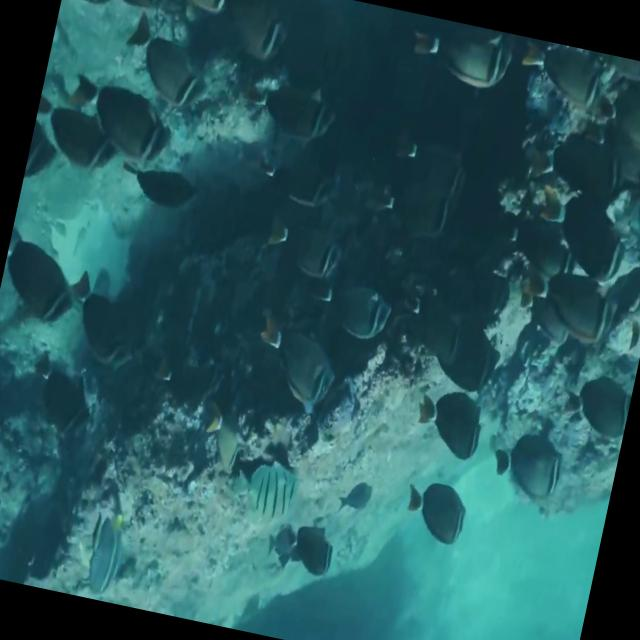fish: (60, 63, 187, 181), (238, 311, 366, 428), (395, 12, 520, 114), (110, 5, 214, 124), (506, 36, 614, 138), (544, 181, 635, 293), (18, 339, 108, 452), (0, 230, 82, 349), (246, 74, 340, 168), (480, 421, 573, 516), (422, 304, 515, 398), (62, 492, 140, 604), (61, 274, 138, 384), (384, 134, 480, 218), (539, 268, 623, 354), (27, 98, 119, 176), (408, 380, 492, 462), (224, 444, 304, 528), (216, 0, 297, 80), (486, 208, 572, 282), (322, 270, 397, 354), (562, 368, 634, 451), (381, 172, 463, 244), (394, 476, 470, 552), (270, 144, 346, 220), (187, 401, 258, 479), (116, 157, 205, 216), (276, 520, 344, 587), (603, 76, 640, 154), (331, 469, 381, 526), (58, 0, 130, 23)
